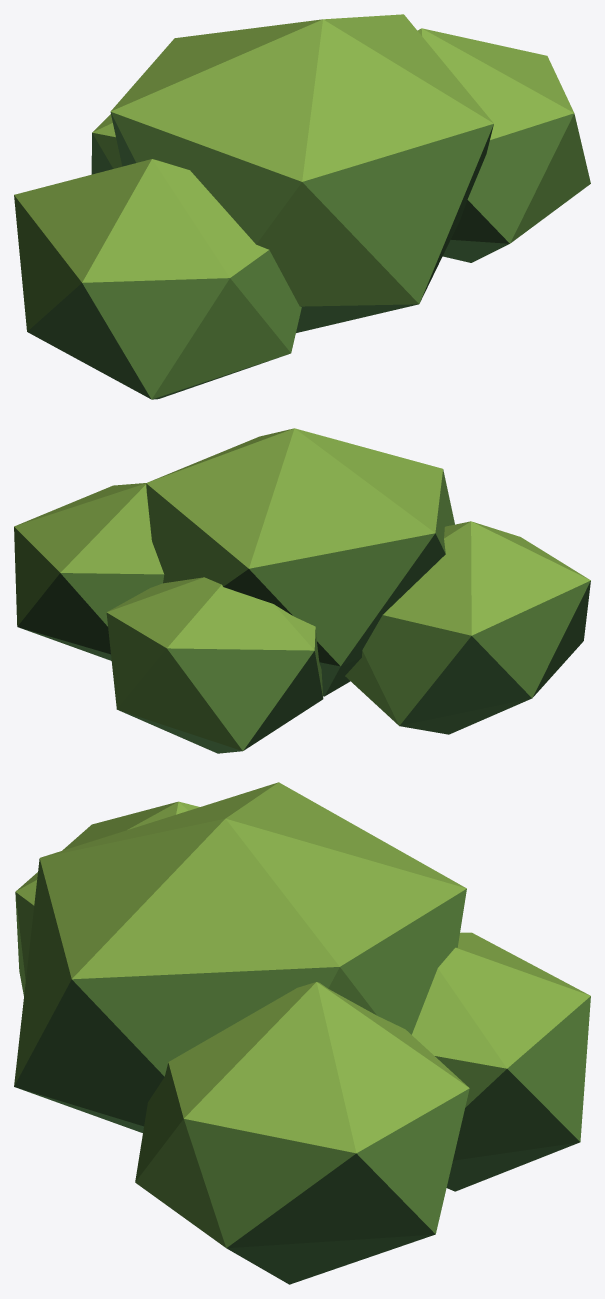
The model's file is SM_Bush_A.fbx.
3 views of the same model, one above another, from view 1: azimuth 30°, elevation 25°; view 2: azimuth 150°, elevation 25°; view 3: azimuth 270°, elevation 25° (orthographic). The views are drawn at different scales.
Parts seen in each view (by area): view 1: SM_Bush_A; view 2: SM_Bush_A; view 3: SM_Bush_A.
Boxes of the visible parts, x1,y1,x2,y2 form: SM_Bush_A: [14, 14, 590, 399]; SM_Bush_A: [14, 428, 590, 753]; SM_Bush_A: [14, 782, 590, 1284].
Size of the model in its own units: 1.63 by 0.8914 by 1.19.
